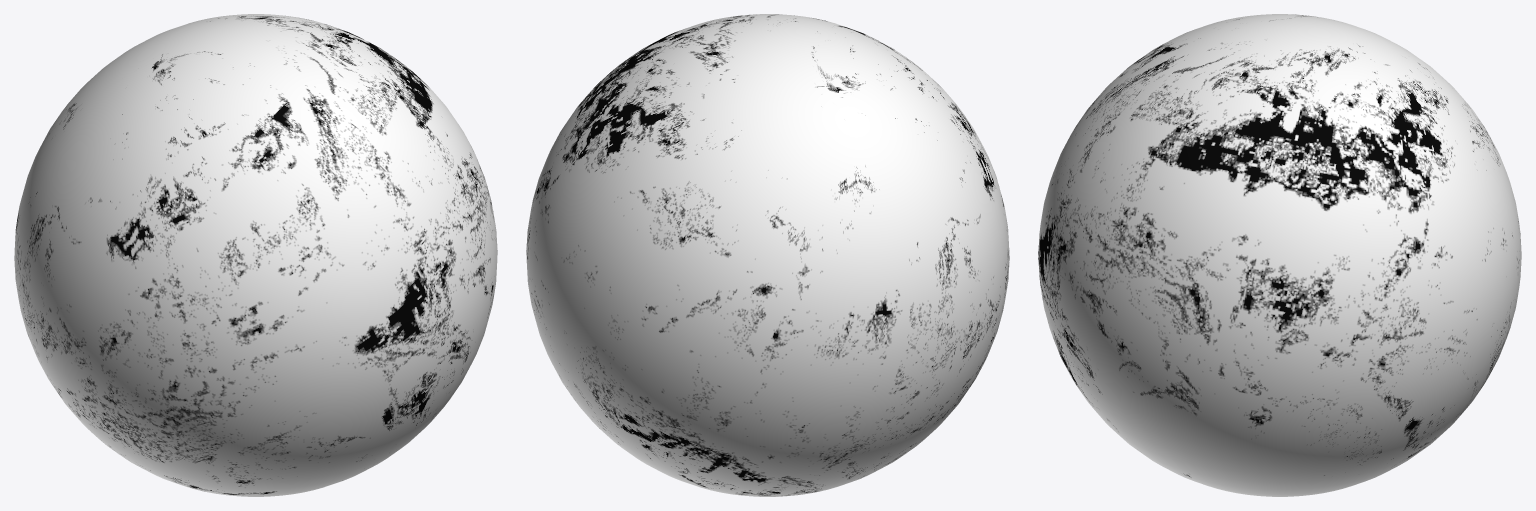
File: Planet_Test.fbx
3 views of the same model, side by side, from view 1: azimuth 30°, elevation 25°; view 2: azimuth 150°, elevation 25°; view 3: azimuth 270°, elevation 25° (orthographic).
Parts seen in each view (by area): view 1: Earth; view 2: Earth; view 3: Earth.
Boxes of the visible parts, x1,y1,x2,y2 form: Earth: [14, 14, 497, 496]; Earth: [526, 14, 1009, 496]; Earth: [1038, 14, 1521, 496].
Bounding box in the file's own units: 202 × 202 × 202.
2 materials, 2 textured.
